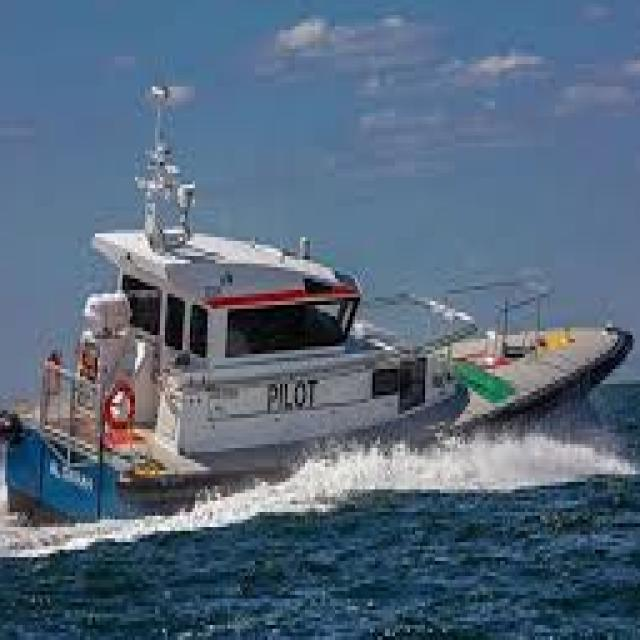houseboat: (0, 75, 632, 527)
